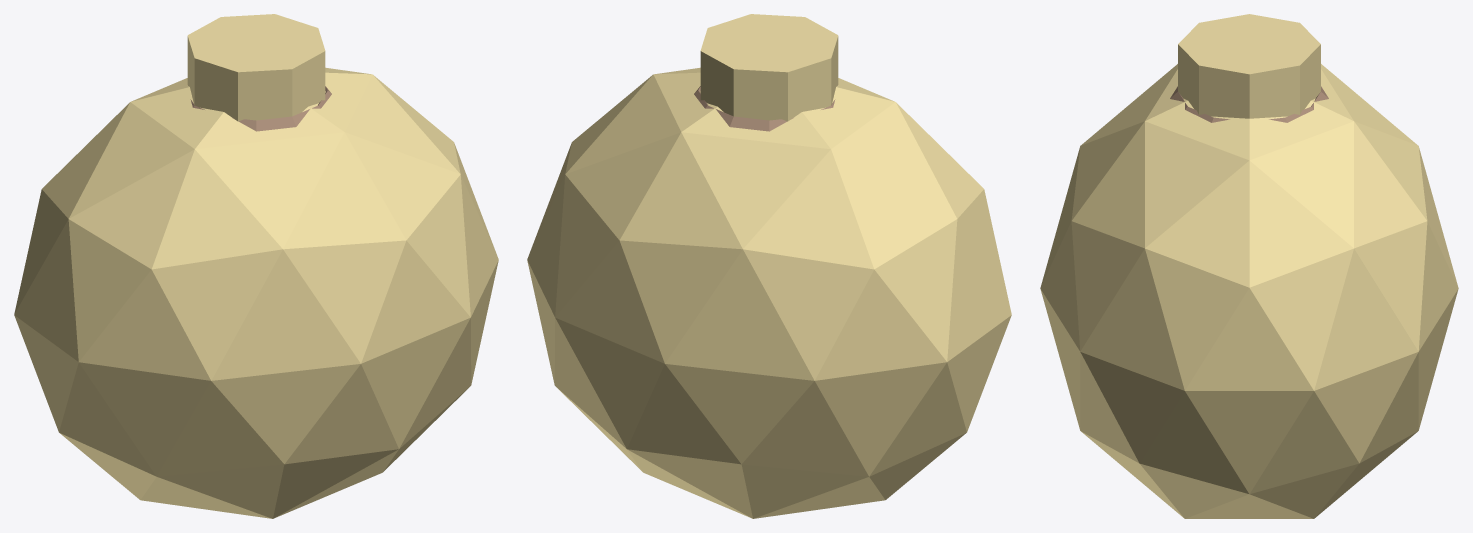
The model's file is cargo_grain.fbx.
The picture shows the model from 3 angles, left to right: view 1: azimuth 30°, elevation 25°; view 2: azimuth 150°, elevation 25°; view 3: azimuth 270°, elevation 25°; orthographic projection.
Parts seen in each view (by area): view 1: cargo_grain_mesh; view 2: cargo_grain_mesh; view 3: cargo_grain_mesh.
Part boxes in pixels (left/top/right/bottom): cargo_grain_mesh: left=14, top=14, right=498, bottom=518; cargo_grain_mesh: left=527, top=14, right=1011, bottom=518; cargo_grain_mesh: left=1040, top=14, right=1458, bottom=518.
Size of the model in its own units: 0.4375 by 0.459 by 0.3772.
